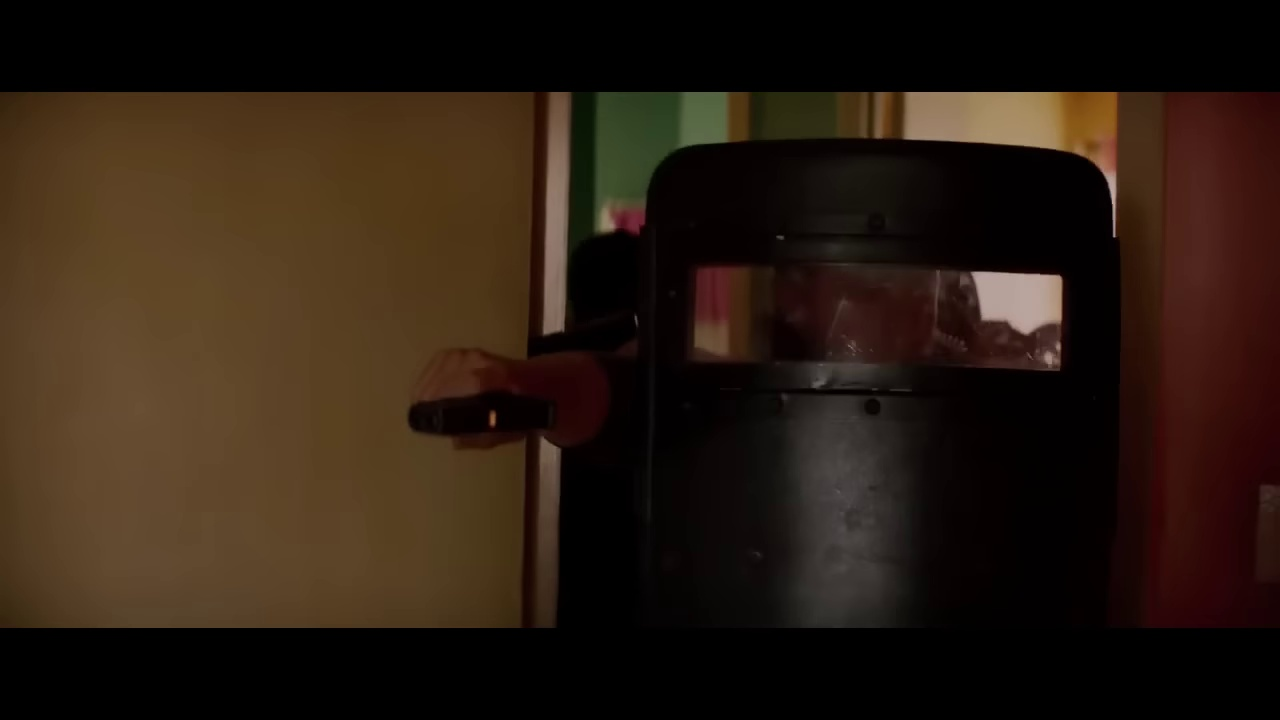gun: (396, 366, 569, 444)
p_w_gun: (398, 196, 1091, 532)
